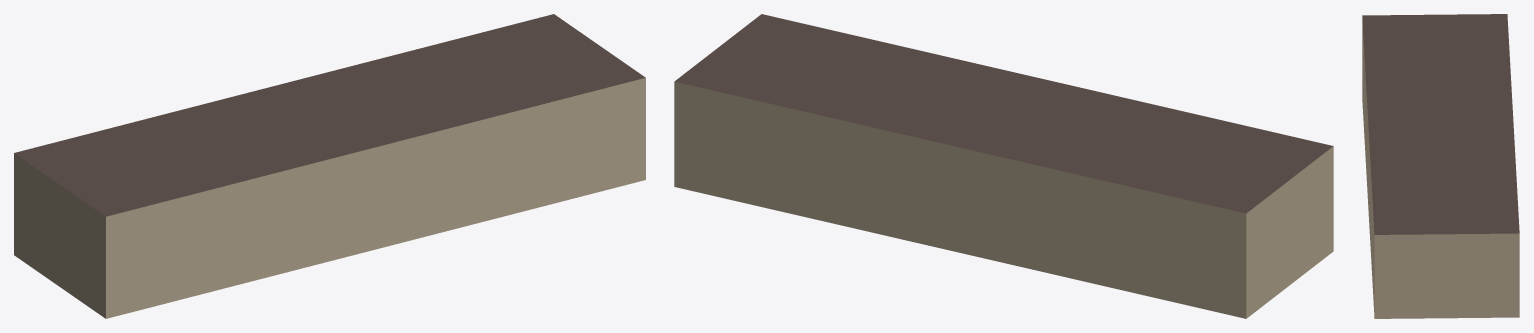
3 renders of one model, left to right at view 1: azimuth 30°, elevation 25°; view 2: azimuth 150°, elevation 25°; view 3: azimuth 270°, elevation 25°, orthographic. The views are drawn at different scales.
Visible parts, largest first — view 1: HP-w1286956096; view 2: HP-w1286956096; view 3: HP-w1286956096.
Boxes of the visible parts, x1,y1,x2,y2 form: HP-w1286956096: (14, 14, 645, 318); HP-w1286956096: (674, 14, 1333, 318); HP-w1286956096: (1362, 14, 1519, 318).
Size of the model in its own units: 50.77 by 9 by 15.28.
